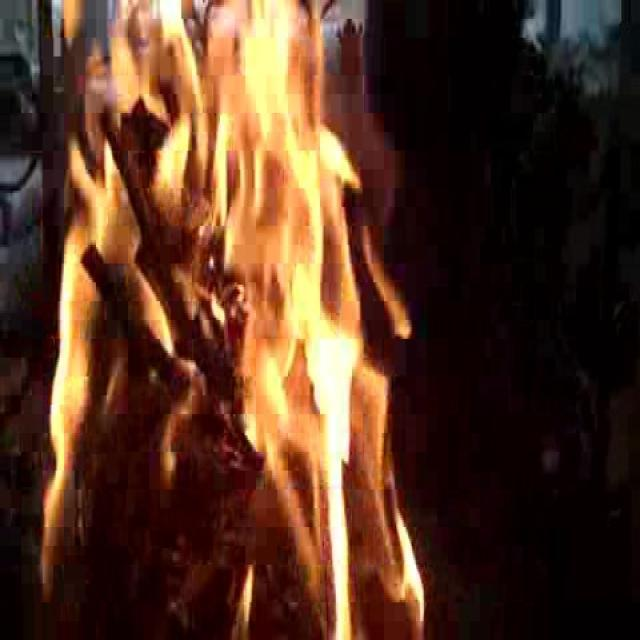Fire: (62, 0, 400, 636)
